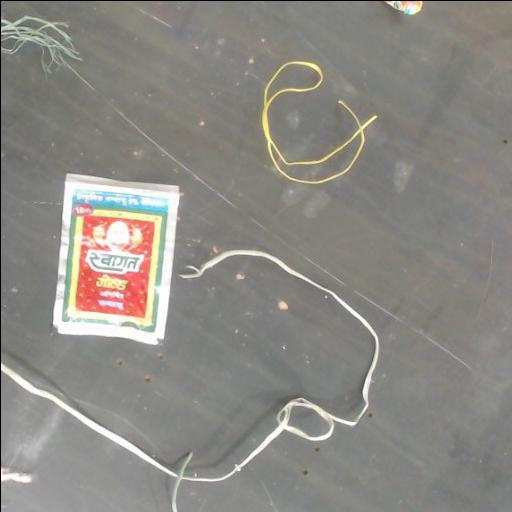conveyor belt: (1, 1, 512, 512), (1, 374, 170, 512)
packet: (53, 173, 179, 343)
thread: (1, 249, 378, 512), (262, 61, 375, 183), (1, 14, 93, 88)
